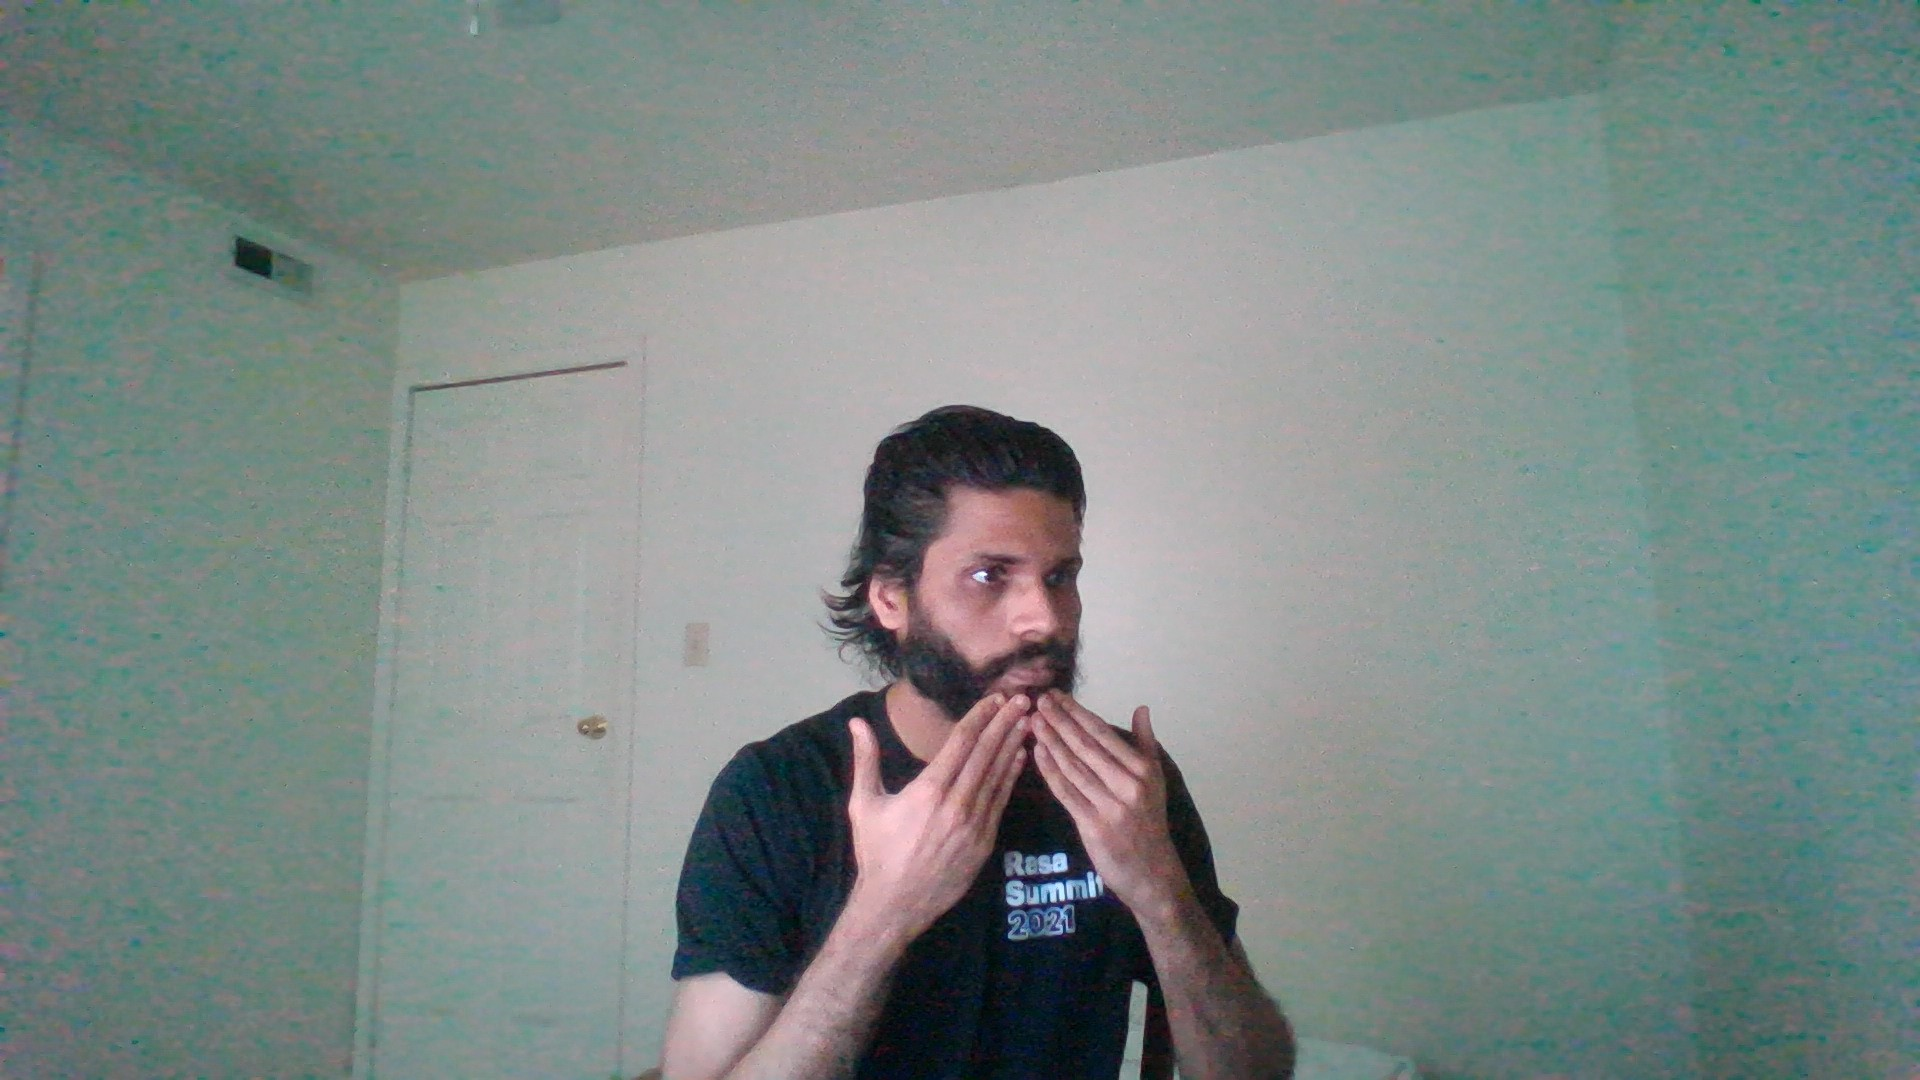Thank You: (828, 654, 1215, 927)
